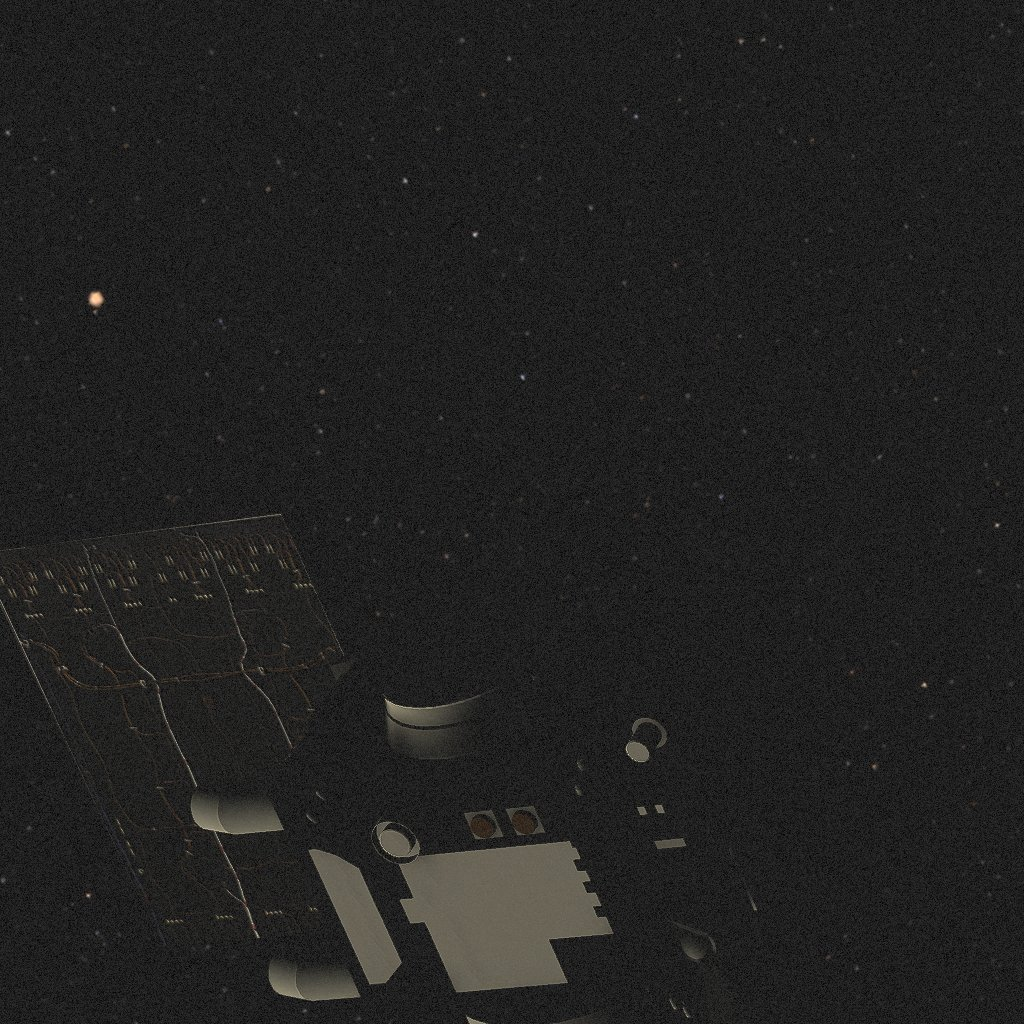proba_3_csc: (18, 498, 762, 1005)
